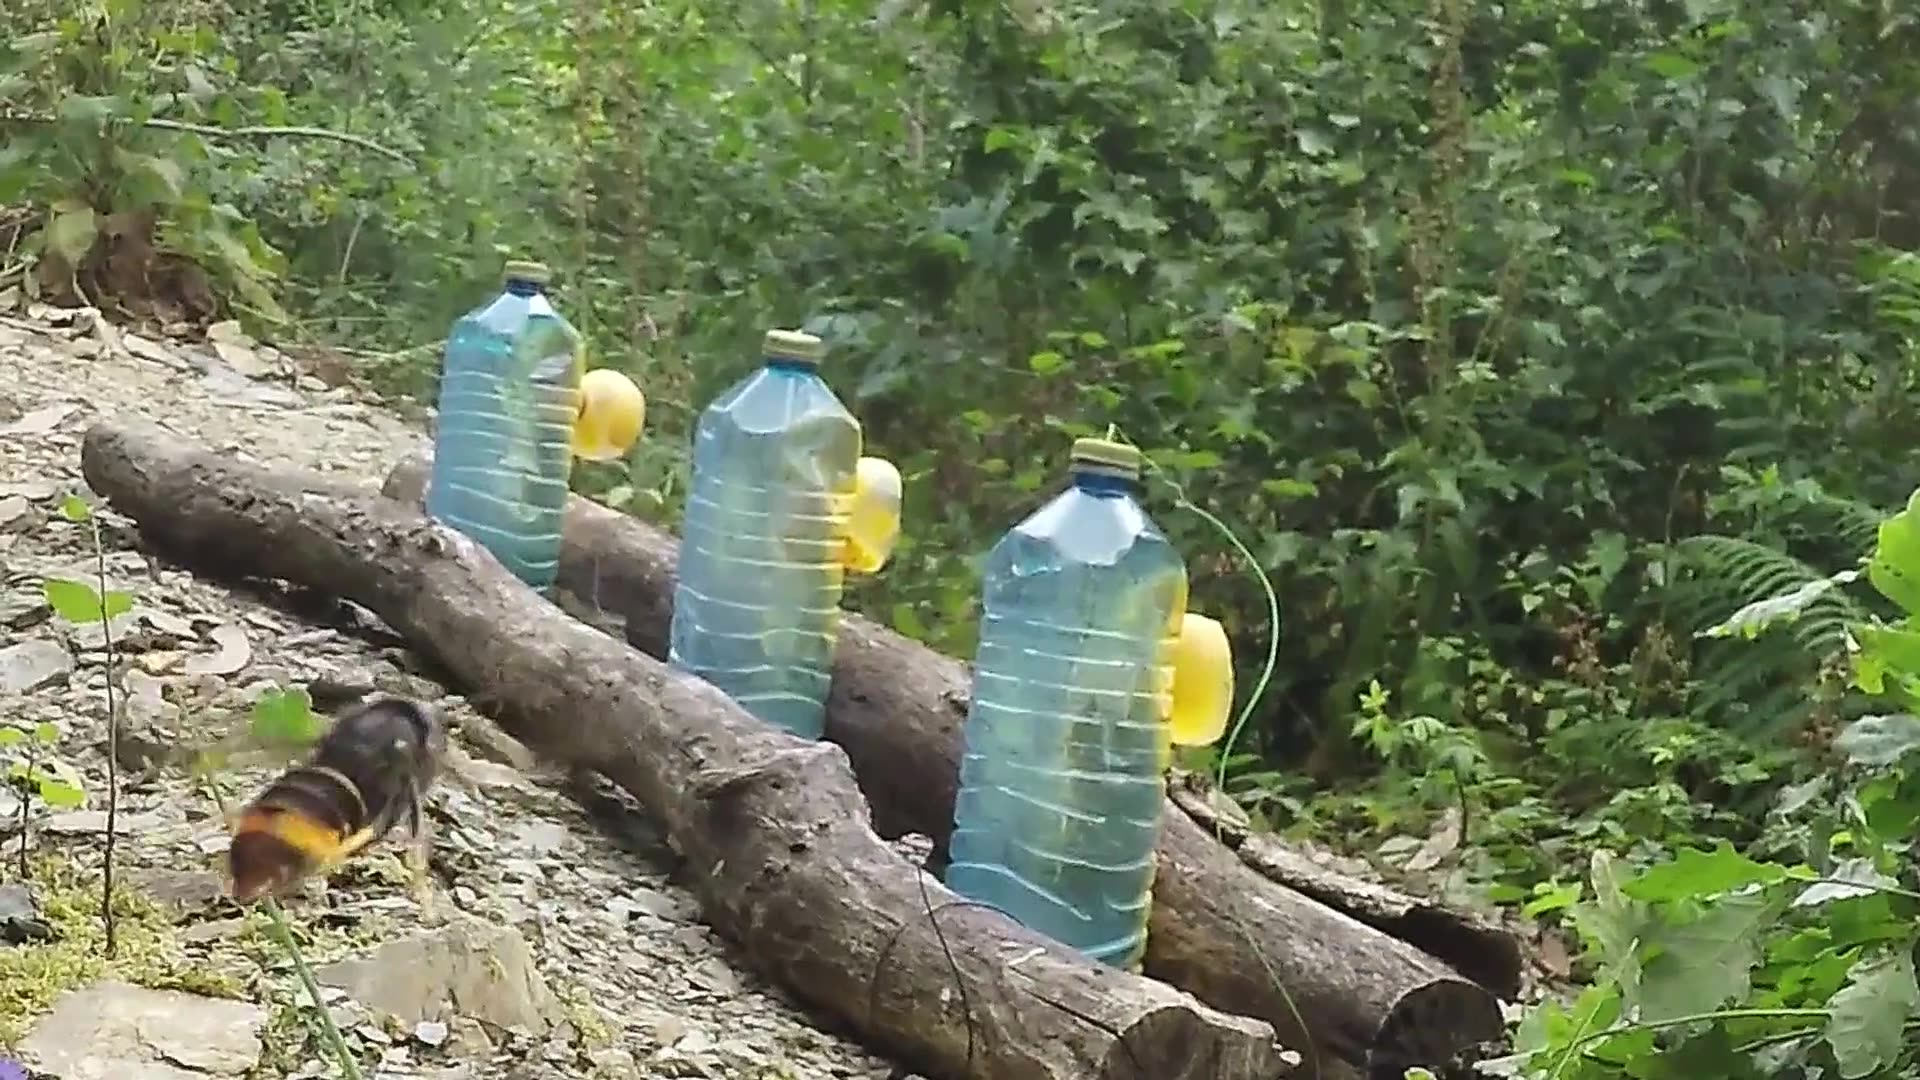hornet: (215, 680, 464, 920)
